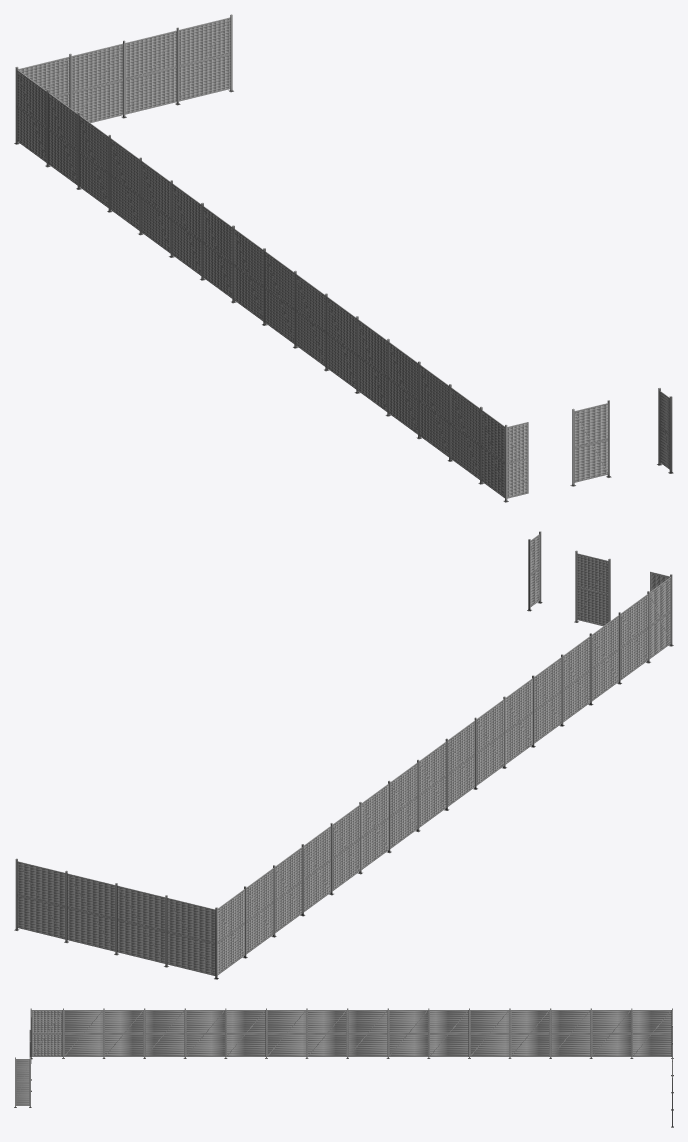
File: SND_weilan.glb
3 views of the same model, one above another, from view 1: azimuth 30°, elevation 25°; view 2: azimuth 150°, elevation 25°; view 3: azimuth 270°, elevation 25° (orthographic). The views are drawn at different scales.
Visible parts, largest first — view 1: Asset3DLoader.sceneRoot; view 2: Asset3DLoader.sceneRoot; view 3: Asset3DLoader.sceneRoot.
Part boxes in pixels (left/top/right/bottom): Asset3DLoader.sceneRoot: left=14, top=14, right=673, bottom=502; Asset3DLoader.sceneRoot: left=14, top=531, right=673, bottom=979; Asset3DLoader.sceneRoot: left=14, top=1008, right=673, bottom=1127.
Size of the model in its own units: 7370 by 2465 by 29423.
Materials: 2 (2 with a texture image).
